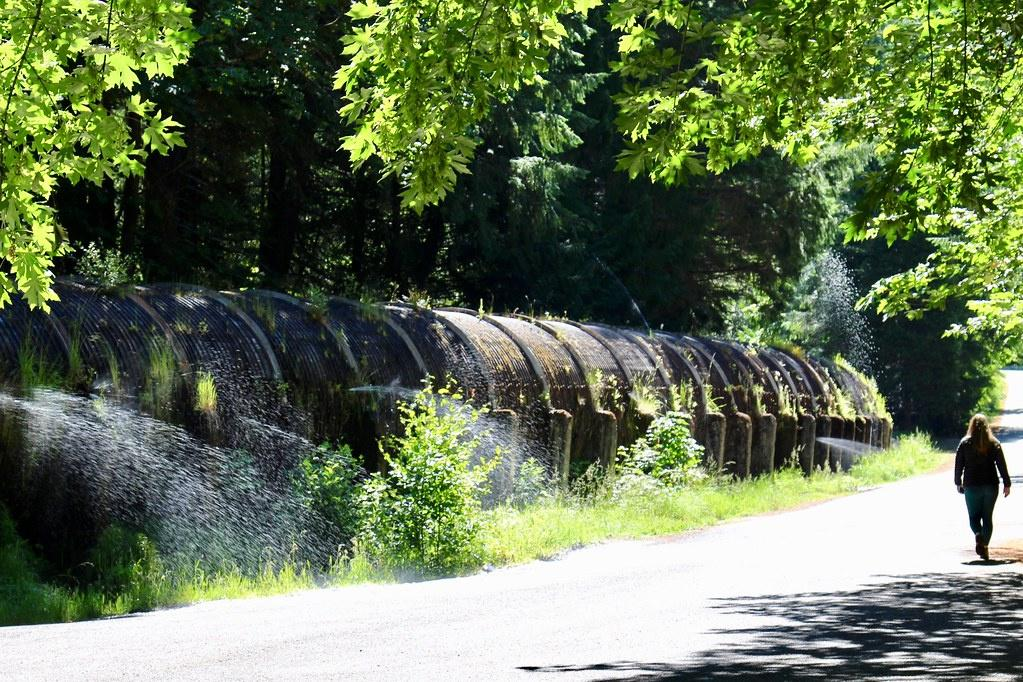pipe burst: (0, 386, 329, 587), (345, 380, 571, 529), (814, 430, 876, 458)
